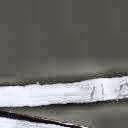crackTip: (1, 99, 128, 127)
